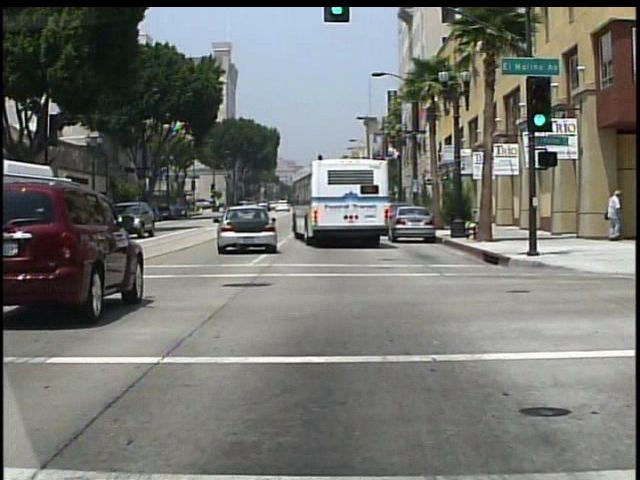person: (603, 190, 627, 244)
